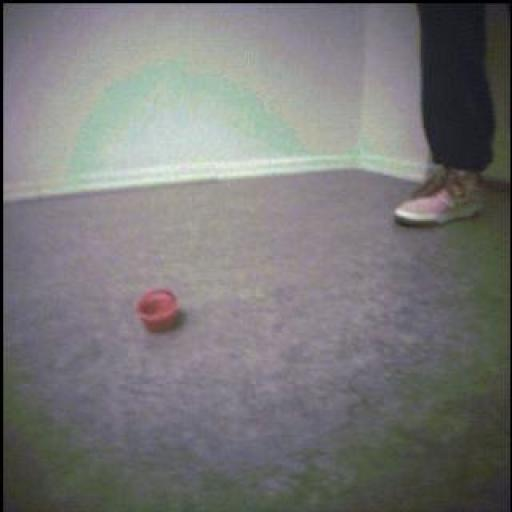Bucket: (136, 287, 185, 336)
